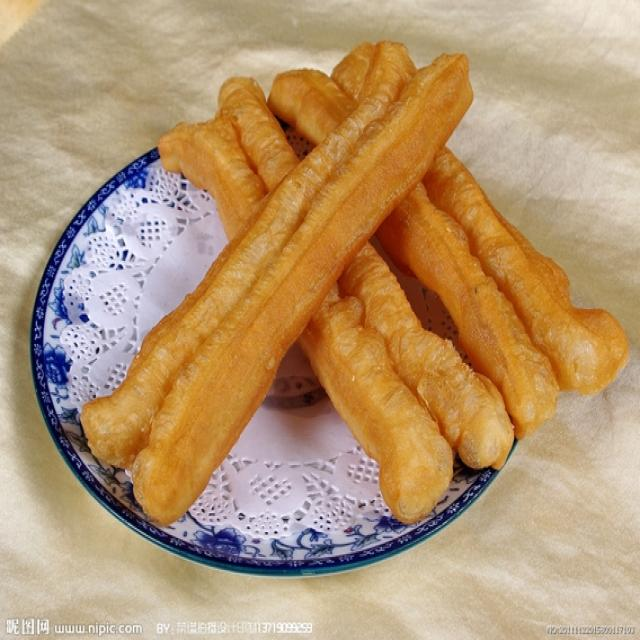炸货点心: (49, 39, 626, 544)
